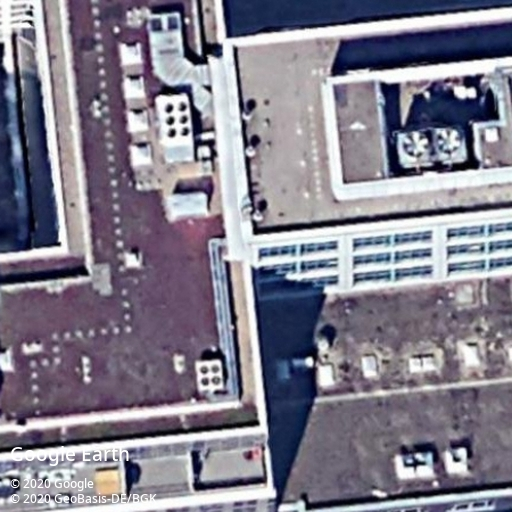Chiller: (153, 91, 197, 154), (194, 355, 228, 395)
Vent: (393, 125, 434, 165), (432, 124, 465, 160)
